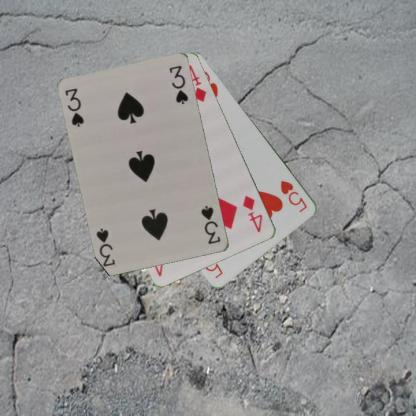3s: (63, 85, 86, 129), (199, 204, 222, 246)
4d: (240, 193, 264, 234)
5h: (278, 178, 309, 214)
